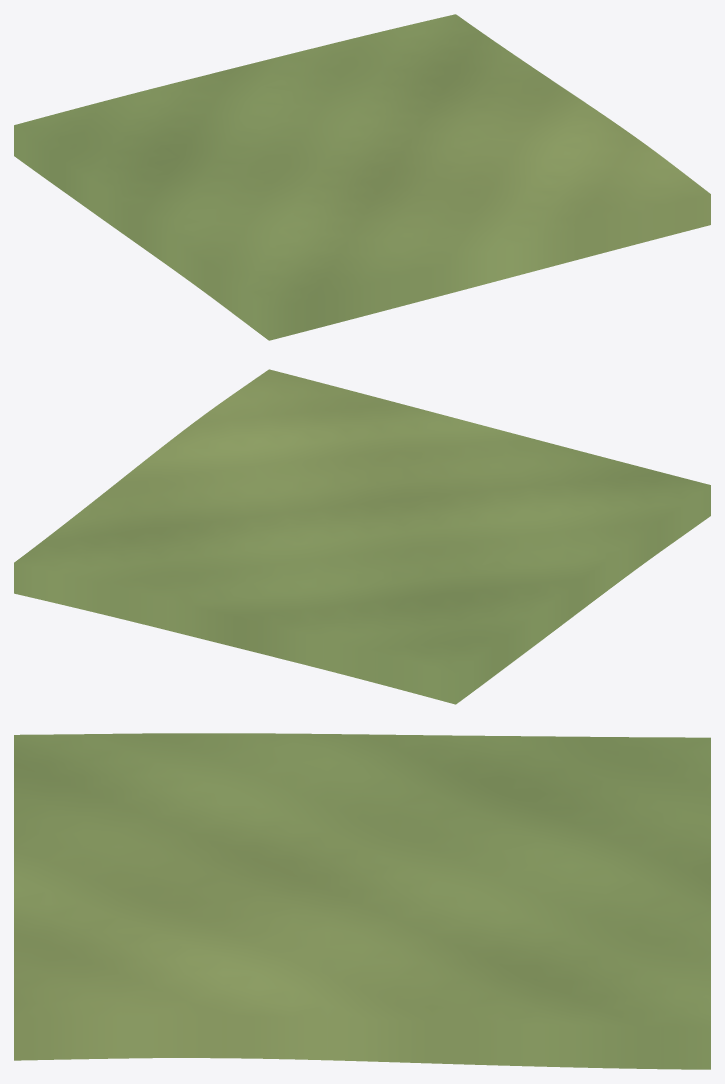
3 views of the same model, one above another, from view 1: azimuth 30°, elevation 25°; view 2: azimuth 150°, elevation 25°; view 3: azimuth 270°, elevation 25° (orthographic). The views are drawn at different scales.
Parts seen in each view (by area): view 1: terrain; view 2: terrain; view 3: terrain.
Part boxes in pixels (x1,y1,x2,y2): terrain: (14,14,710,340); terrain: (14,369,710,704); terrain: (14,733,710,1069).
Size of the model in its own units: 30 by 2.77 by 30.
